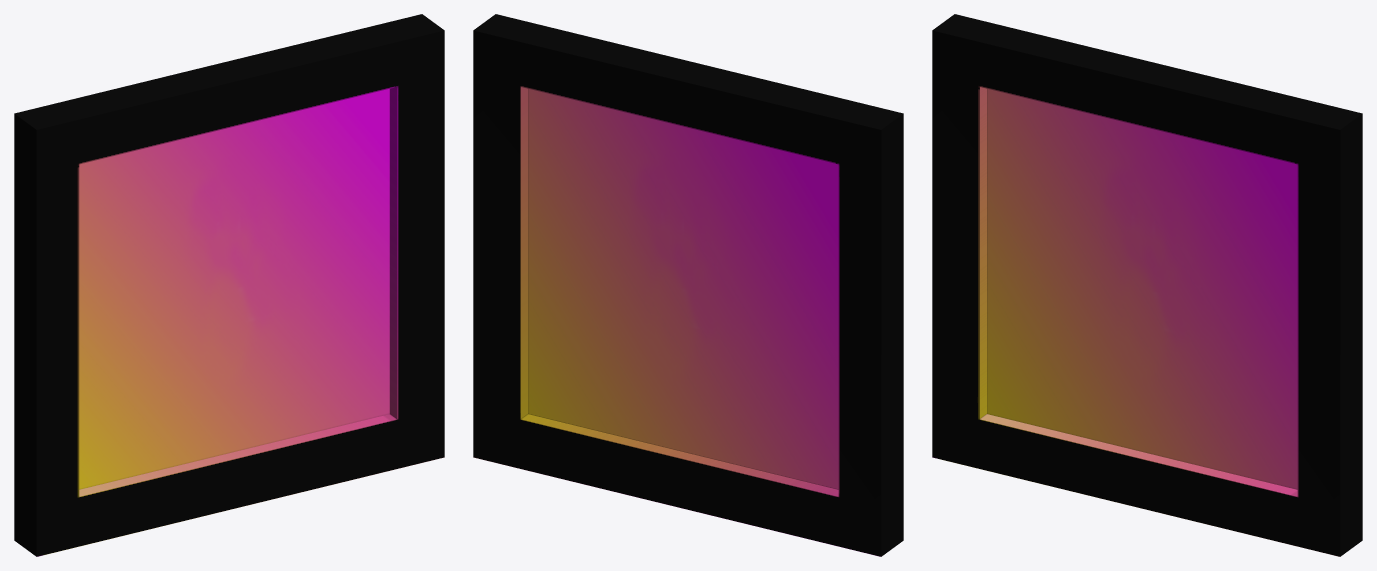
The model's file is PixelcraftSquare.fbx.
3 renders of one model, left to right at view 1: azimuth 30°, elevation 25°; view 2: azimuth 150°, elevation 25°; view 3: azimuth 330°, elevation 25°, orthographic.
Parts seen in each view (by area): view 1: PixelcraftSquare; view 2: PixelcraftSquare; view 3: PixelcraftSquare.
Part boxes in pixels (x1,y1,x2,y2): PixelcraftSquare: (14,14,444,556); PixelcraftSquare: (473,14,903,556); PixelcraftSquare: (932,14,1362,556).
Bounding box in the file's own units: 3.36 × 3.36 × 0.3212.
